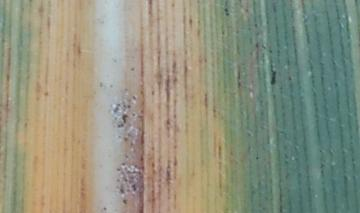tarspot: (163, 74, 171, 107), (268, 61, 278, 87), (171, 59, 180, 76), (146, 1, 154, 18), (235, 63, 243, 80), (253, 38, 261, 52), (111, 102, 120, 114), (130, 182, 138, 193), (253, 151, 261, 162), (219, 27, 227, 38), (121, 114, 130, 123), (117, 186, 126, 195), (223, 6, 230, 17), (122, 85, 131, 93), (188, 16, 193, 29), (286, 74, 294, 82), (121, 135, 129, 143), (253, 21, 260, 30), (122, 197, 129, 206), (97, 79, 104, 88), (116, 123, 126, 129), (236, 80, 242, 90), (165, 117, 171, 127), (42, 90, 49, 98), (115, 166, 123, 173), (266, 47, 274, 54), (129, 65, 136, 72), (130, 94, 137, 101), (243, 6, 249, 14), (150, 159, 155, 168), (170, 2, 176, 9), (102, 205, 108, 212), (150, 89, 155, 96), (126, 103, 131, 109)
